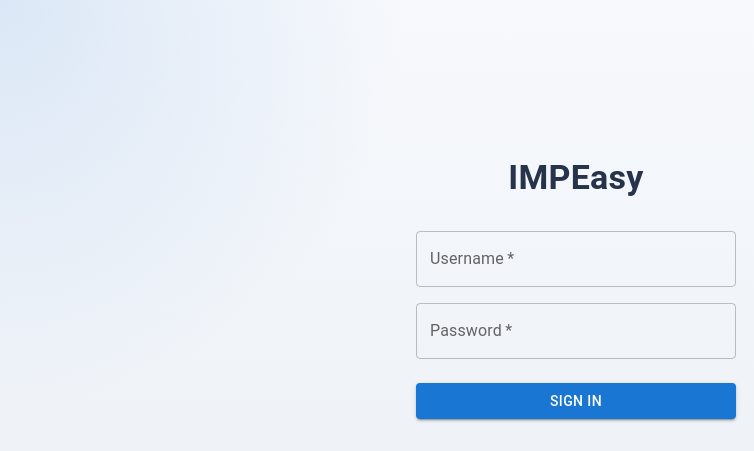
Test: LoginPage › shows an error when sign-in fails
In the field labelled "Username *": (576, 259) [416, 231, 736, 287], type "planner@impeasy.local"
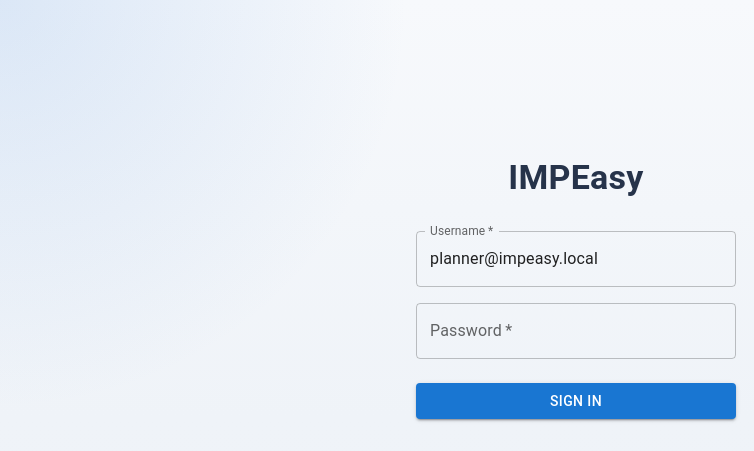
In the password field labelled "Password *": (576, 331) [416, 303, 736, 359], type "WrongPass1!"
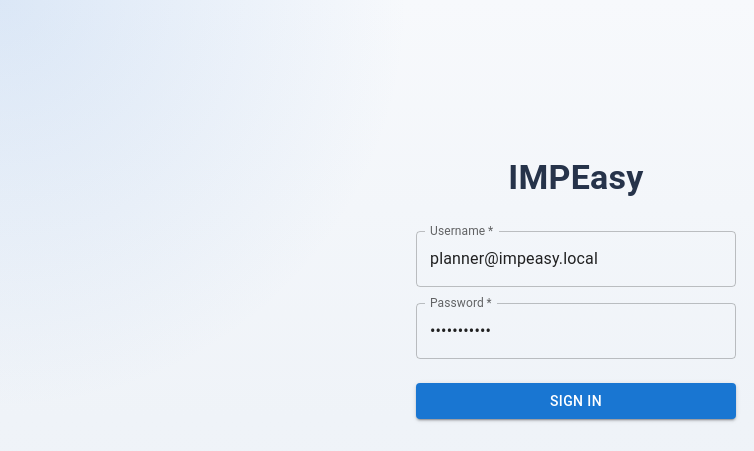
Click the button "Sign in": (576, 401) [416, 383, 736, 419]
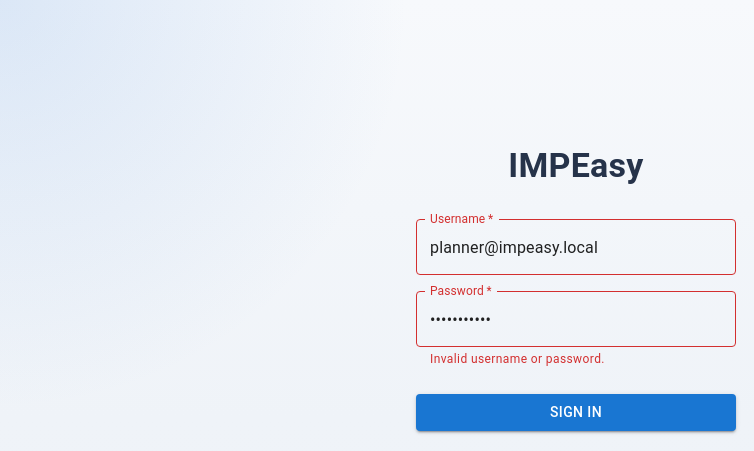
Check: the text "Invalid username or password." is shown, box [430, 352, 605, 366]
